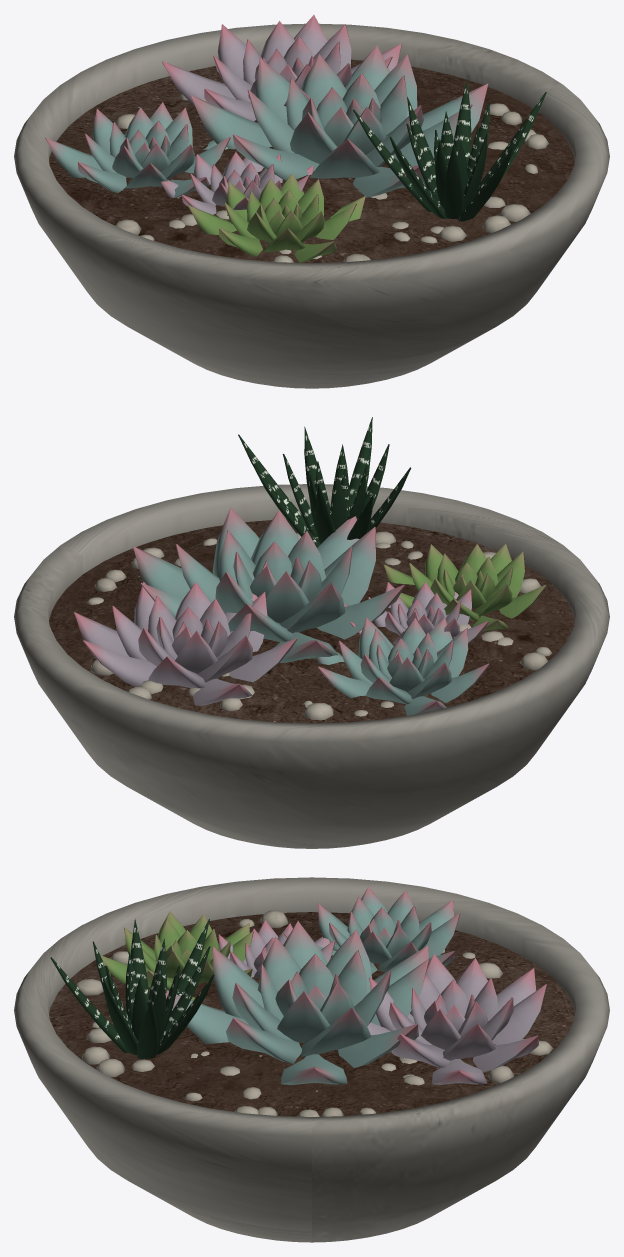
Rendered from suculentas_16.glb.
3 renders of one model, top to bottom at view 1: azimuth 30°, elevation 25°; view 2: azimuth 150°, elevation 25°; view 3: azimuth 270°, elevation 25°, orthographic.
Parts seen in each view (by area): view 1: suculentas_16; view 2: suculentas_16; view 3: suculentas_16.
Boxes of the visible parts, x1,y1,x2,y2 form: suculentas_16: (14,15,609,388); suculentas_16: (14,417,609,848); suculentas_16: (14,877,609,1242).
Size of the model in its own units: 0.32 by 0.1558 by 0.32.
4 materials, 4 textured.
